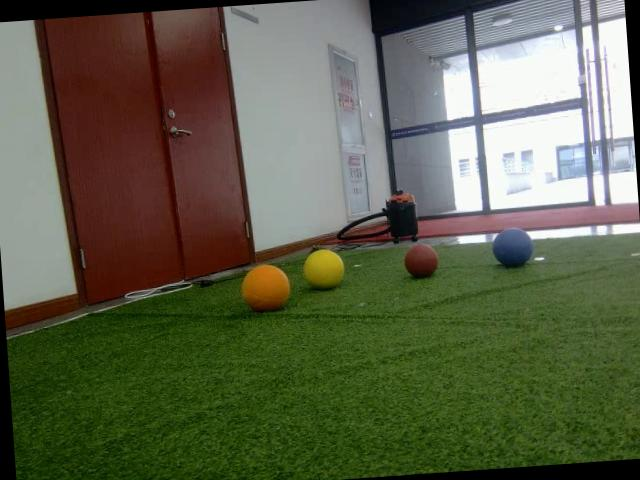blue_ball: (490, 225, 534, 268)
orange_ball: (238, 262, 292, 313)
red_ball: (402, 241, 439, 278)
yellow_ball: (300, 246, 346, 290)
